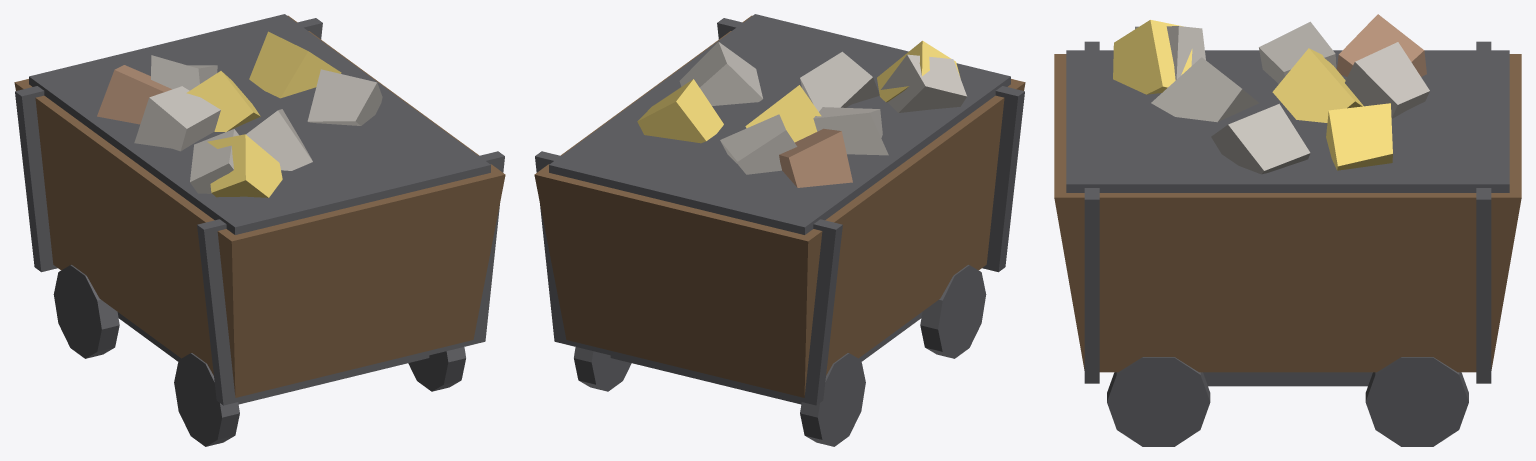
File: SM_Mine_Cart.glb
The picture shows the model from 3 angles, left to right: view 1: azimuth 30°, elevation 25°; view 2: azimuth 150°, elevation 25°; view 3: azimuth 270°, elevation 25°; orthographic projection. The views are drawn at different scales.
Parts seen in each view (by area): view 1: SM_Mine_Cart; view 2: SM_Mine_Cart; view 3: SM_Mine_Cart.
Part boxes in pixels (left/top/right/bottom): SM_Mine_Cart: left=14, top=14, right=505, bottom=446; SM_Mine_Cart: left=534, top=14, right=1025, bottom=446; SM_Mine_Cart: left=1054, top=14, right=1521, bottom=446.
Size of the model in its own units: 1.01 by 0.9616 by 1.26.
